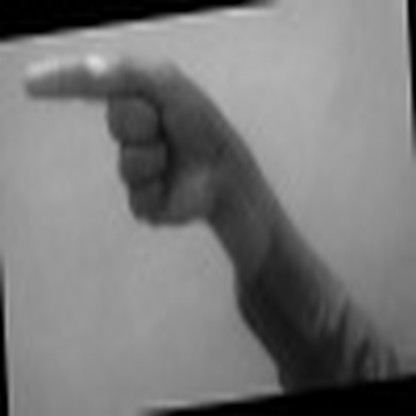g: (18, 47, 265, 227)
